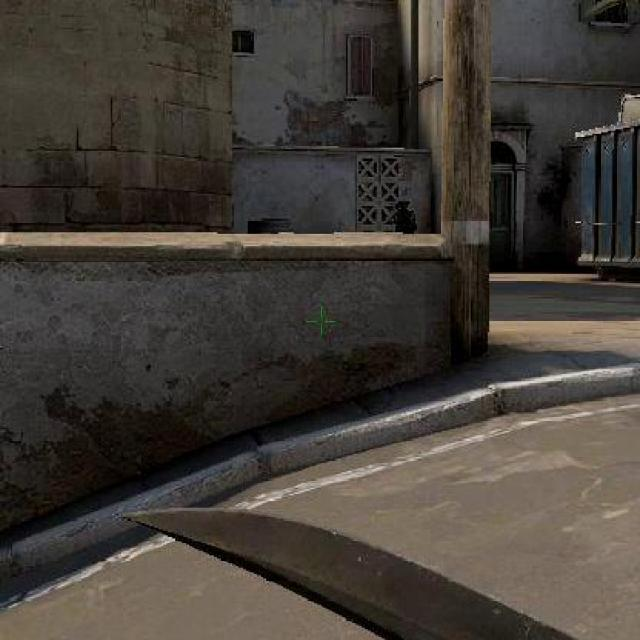CT: (392, 197, 418, 234)
CT_HEAD: (397, 198, 408, 210)
